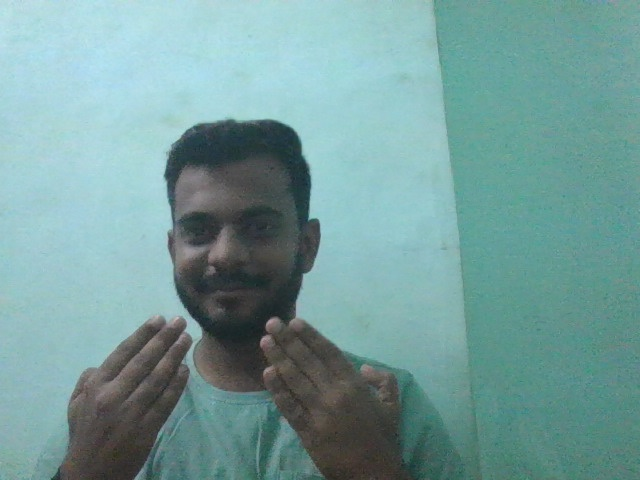thankyou: (56, 308, 409, 465)
